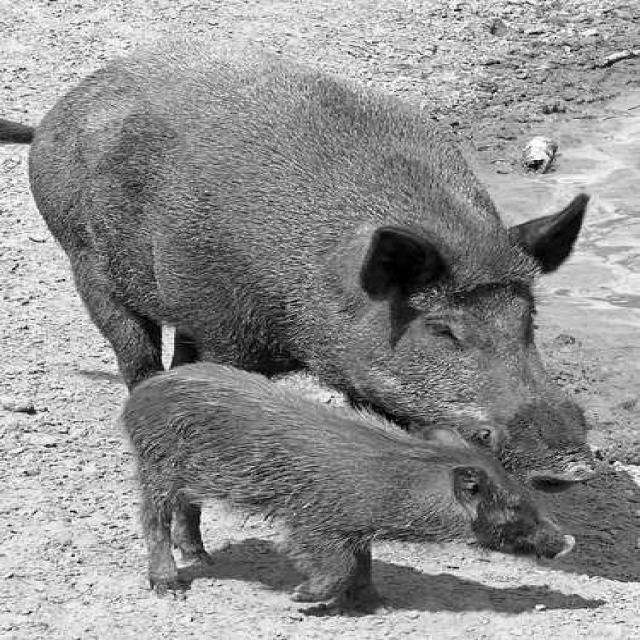boar: (27, 40, 592, 609), (118, 362, 570, 609)
